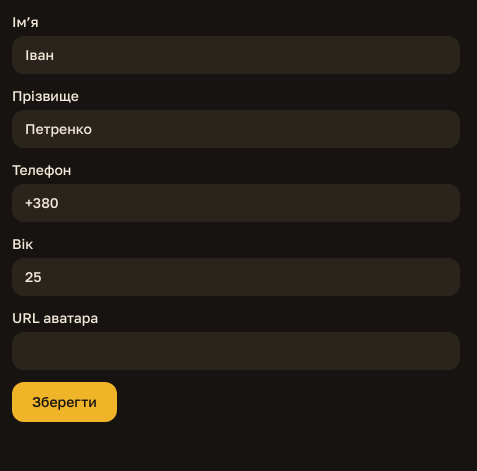
Scenario: ProfileForm › firstname <2 → інлайн-помилка, без PATCH
Step 1. Replace the text in the field labelled "Імʼя" with "Й" → [236, 55], box [12,36,460,74]
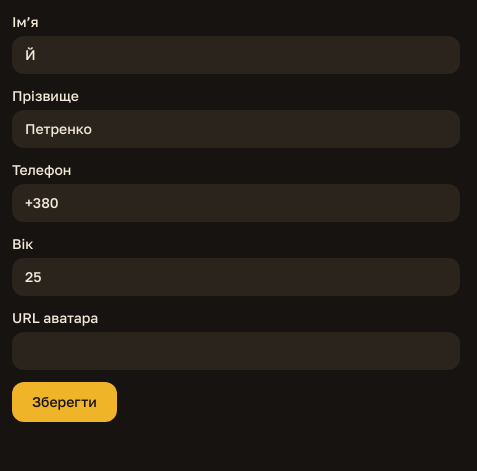
Step 2. Click the button "Зберегти" → [64, 402], box [12,382,117,422]
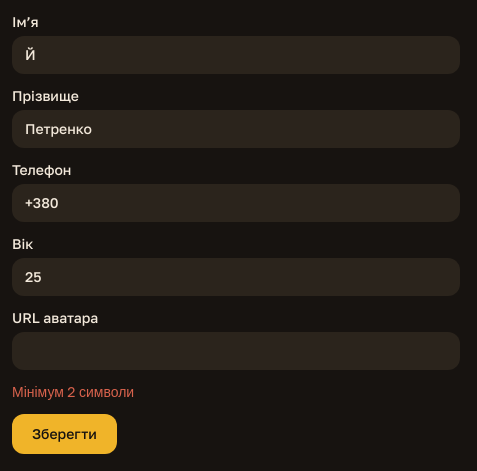
Now the message shows "Мінімум 2", box [12,383,134,400]
